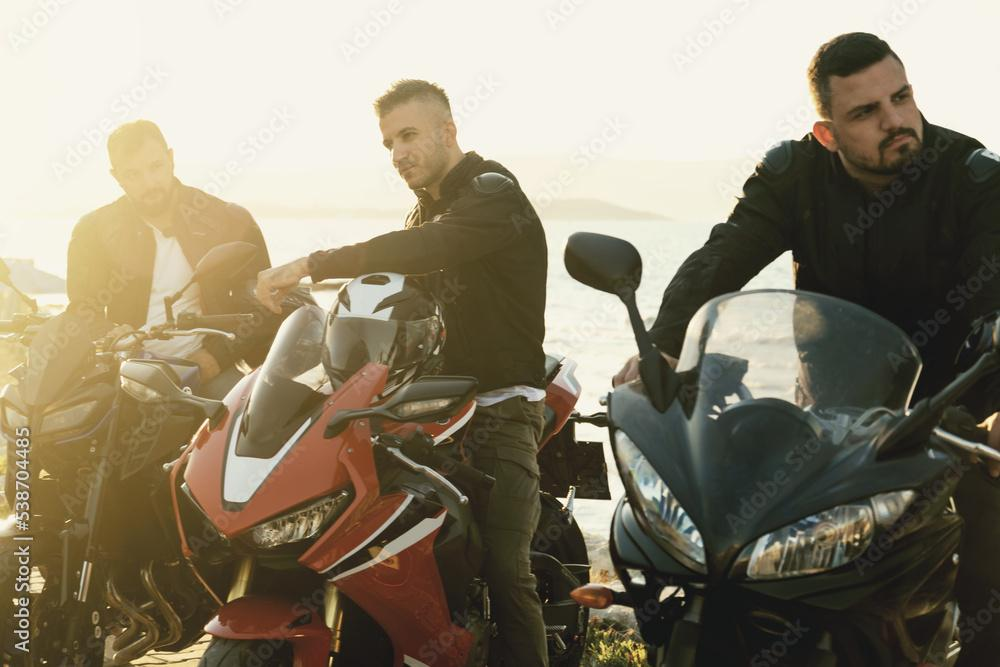helmet: (320, 268, 448, 417)
nohelmet: (805, 30, 927, 178), (372, 77, 459, 191), (106, 118, 175, 216)
